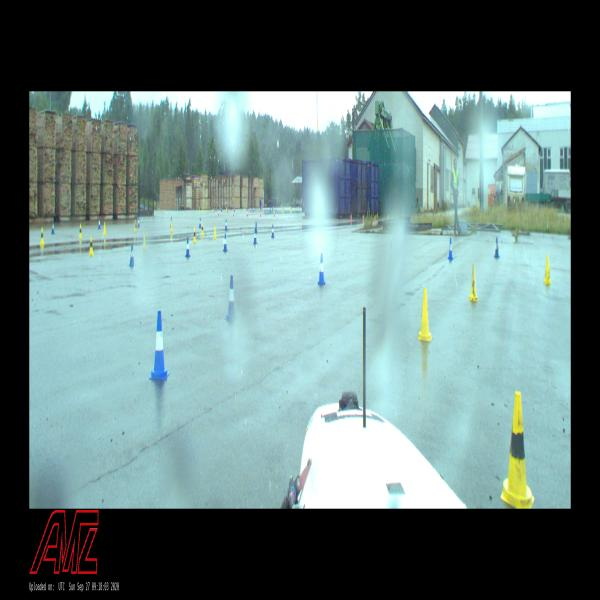blue_cone: (149, 311, 169, 379), (225, 275, 237, 320), (318, 253, 325, 284), (448, 238, 454, 260), (494, 238, 499, 258), (185, 237, 190, 257), (130, 243, 134, 266), (223, 234, 228, 251), (253, 228, 257, 244), (51, 221, 55, 234), (271, 224, 274, 238), (137, 216, 140, 228), (98, 218, 101, 229), (256, 221, 258, 233), (170, 216, 172, 228), (225, 219, 227, 230), (199, 218, 201, 228), (269, 207, 271, 213), (215, 206, 217, 211), (276, 206, 277, 212), (253, 207, 254, 212), (221, 207, 222, 212), (231, 206, 232, 211), (220, 206, 221, 210)
orange_cone: (350, 212, 352, 220), (362, 214, 364, 222), (374, 214, 376, 222), (213, 206, 215, 212), (227, 208, 229, 212), (218, 209, 219, 216), (233, 209, 234, 216), (247, 209, 248, 216), (274, 210, 275, 217), (250, 206, 251, 212), (260, 210, 261, 216)
yellow_cone: (501, 391, 534, 509), (418, 288, 432, 340), (469, 264, 478, 301), (544, 254, 552, 285), (89, 236, 94, 255), (40, 228, 44, 244), (193, 228, 197, 242), (213, 226, 217, 238), (143, 233, 146, 248), (79, 224, 82, 238), (201, 222, 204, 235), (103, 222, 106, 235), (170, 221, 173, 232), (134, 220, 137, 231), (282, 207, 284, 213), (202, 207, 204, 211), (291, 206, 292, 212), (290, 206, 291, 211), (244, 205, 245, 210), (212, 206, 213, 211), (204, 207, 205, 212), (199, 206, 200, 211), (282, 205, 282, 212)
